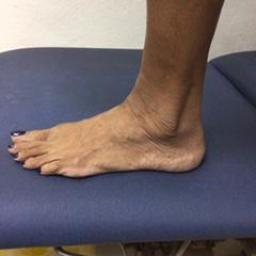Lateral View -Left Foot-: (4, 76, 218, 182)
